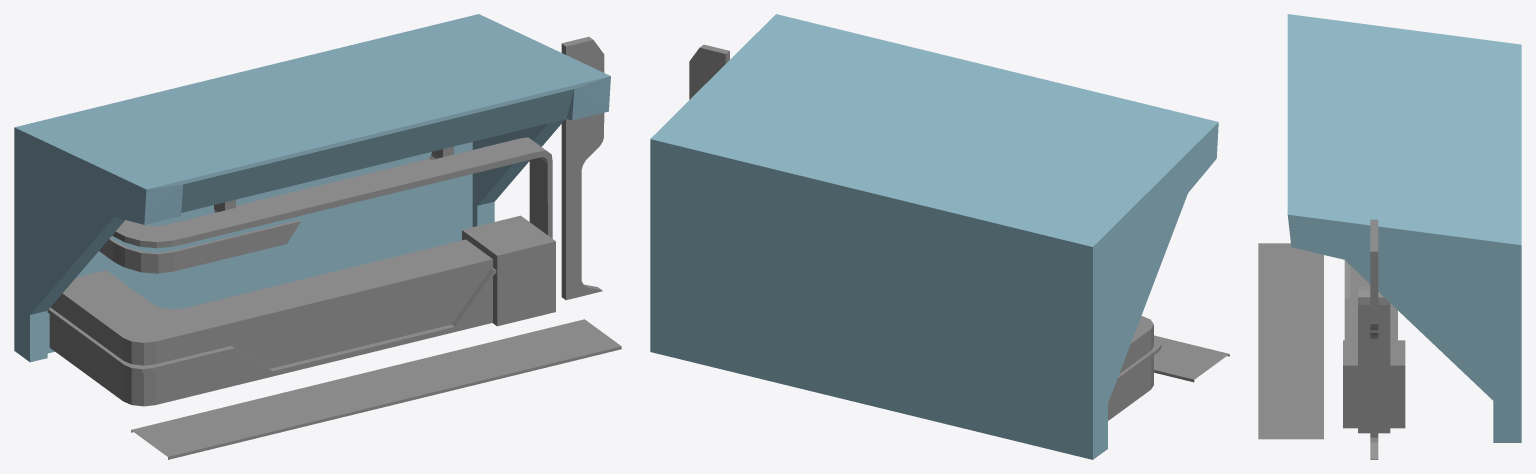
Rendered from BC_Collider_TanWei_1.FBX.
3 views of the same model, side by side, from view 1: azimuth 30°, elevation 25°; view 2: azimuth 150°, elevation 25°; view 3: azimuth 270°, elevation 25° (orthographic). The views are drawn at different scales.
Parts seen in each view (by area): view 1: BC_Collider_TanWei_1; view 2: BC_Collider_TanWei_1; view 3: BC_Collider_TanWei_1.
Part boxes in pixels (bbox=[...]): BC_Collider_TanWei_1: bbox=[14, 14, 621, 459]; BC_Collider_TanWei_1: bbox=[650, 14, 1229, 459]; BC_Collider_TanWei_1: bbox=[1258, 14, 1521, 459].
Size of the model in its own units: 9.14 by 4.49 by 4.66.
